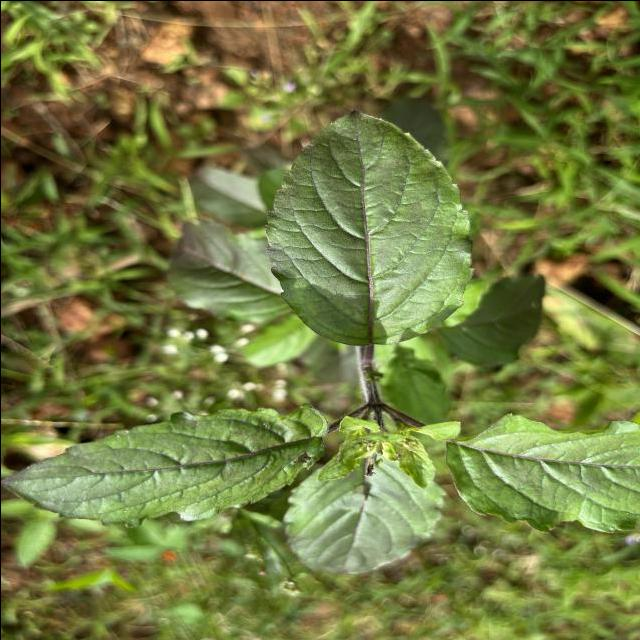Ocimum tenuiflorum: (262, 108, 476, 347), (0, 402, 327, 530)
